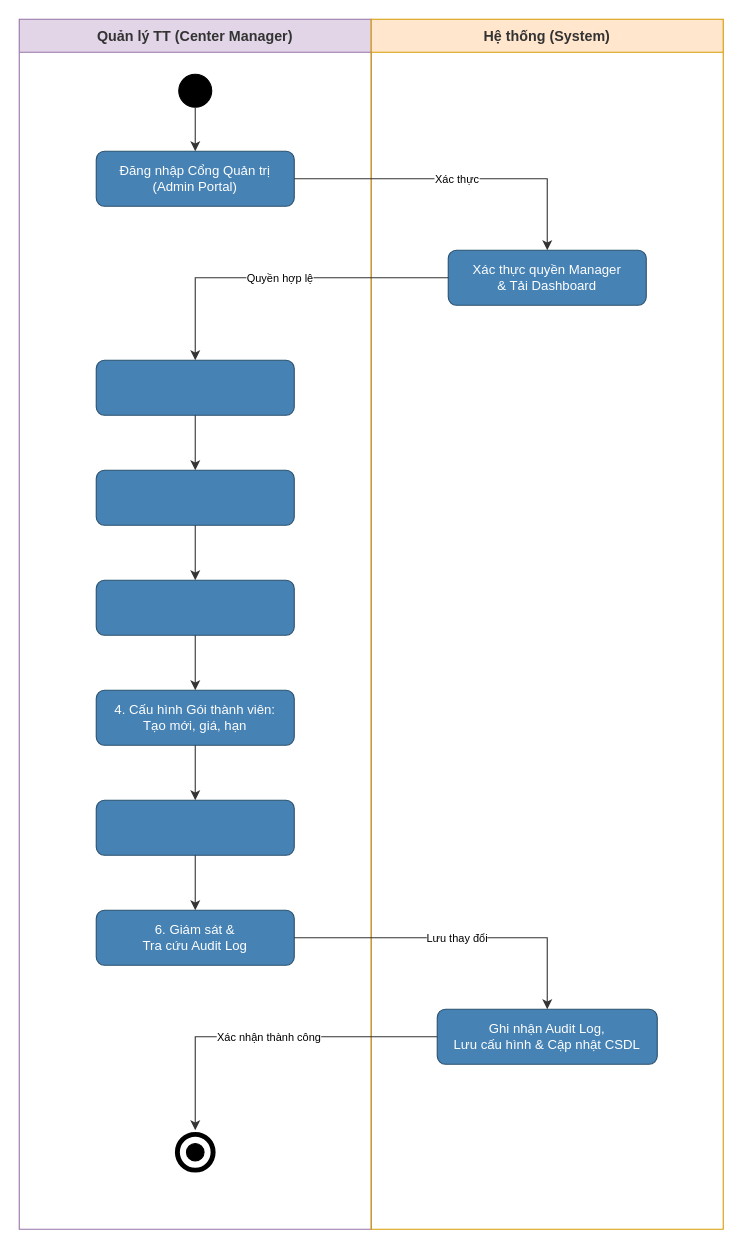
This 743x1249 diagram has some shape labels left out. Each missing label, with the centre of its shape:
"1. Quản lý Người dùng (CRUD): HV, HLV, Staff" goes at (x=194, y=387).
"2. Quản lý Danh mục: Lớp, bộ môn, phòng tập" goes at (x=194, y=497).
"3. Phân công HLV phụ trách lớp" goes at (x=194, y=607).
"5. Phân quyền vai trò (RBAC)" goes at (x=194, y=827).
